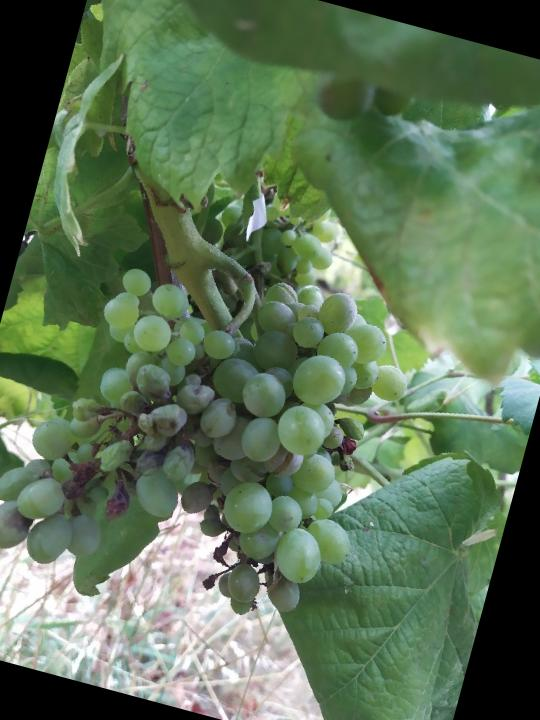grape: (0, 215, 431, 648)
